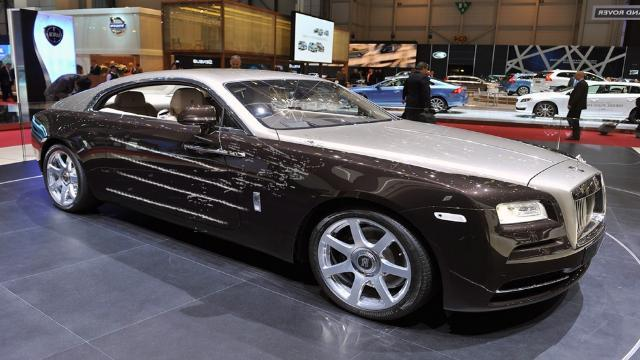Door: (87, 116, 244, 231)
Windshield: (228, 84, 381, 132)
